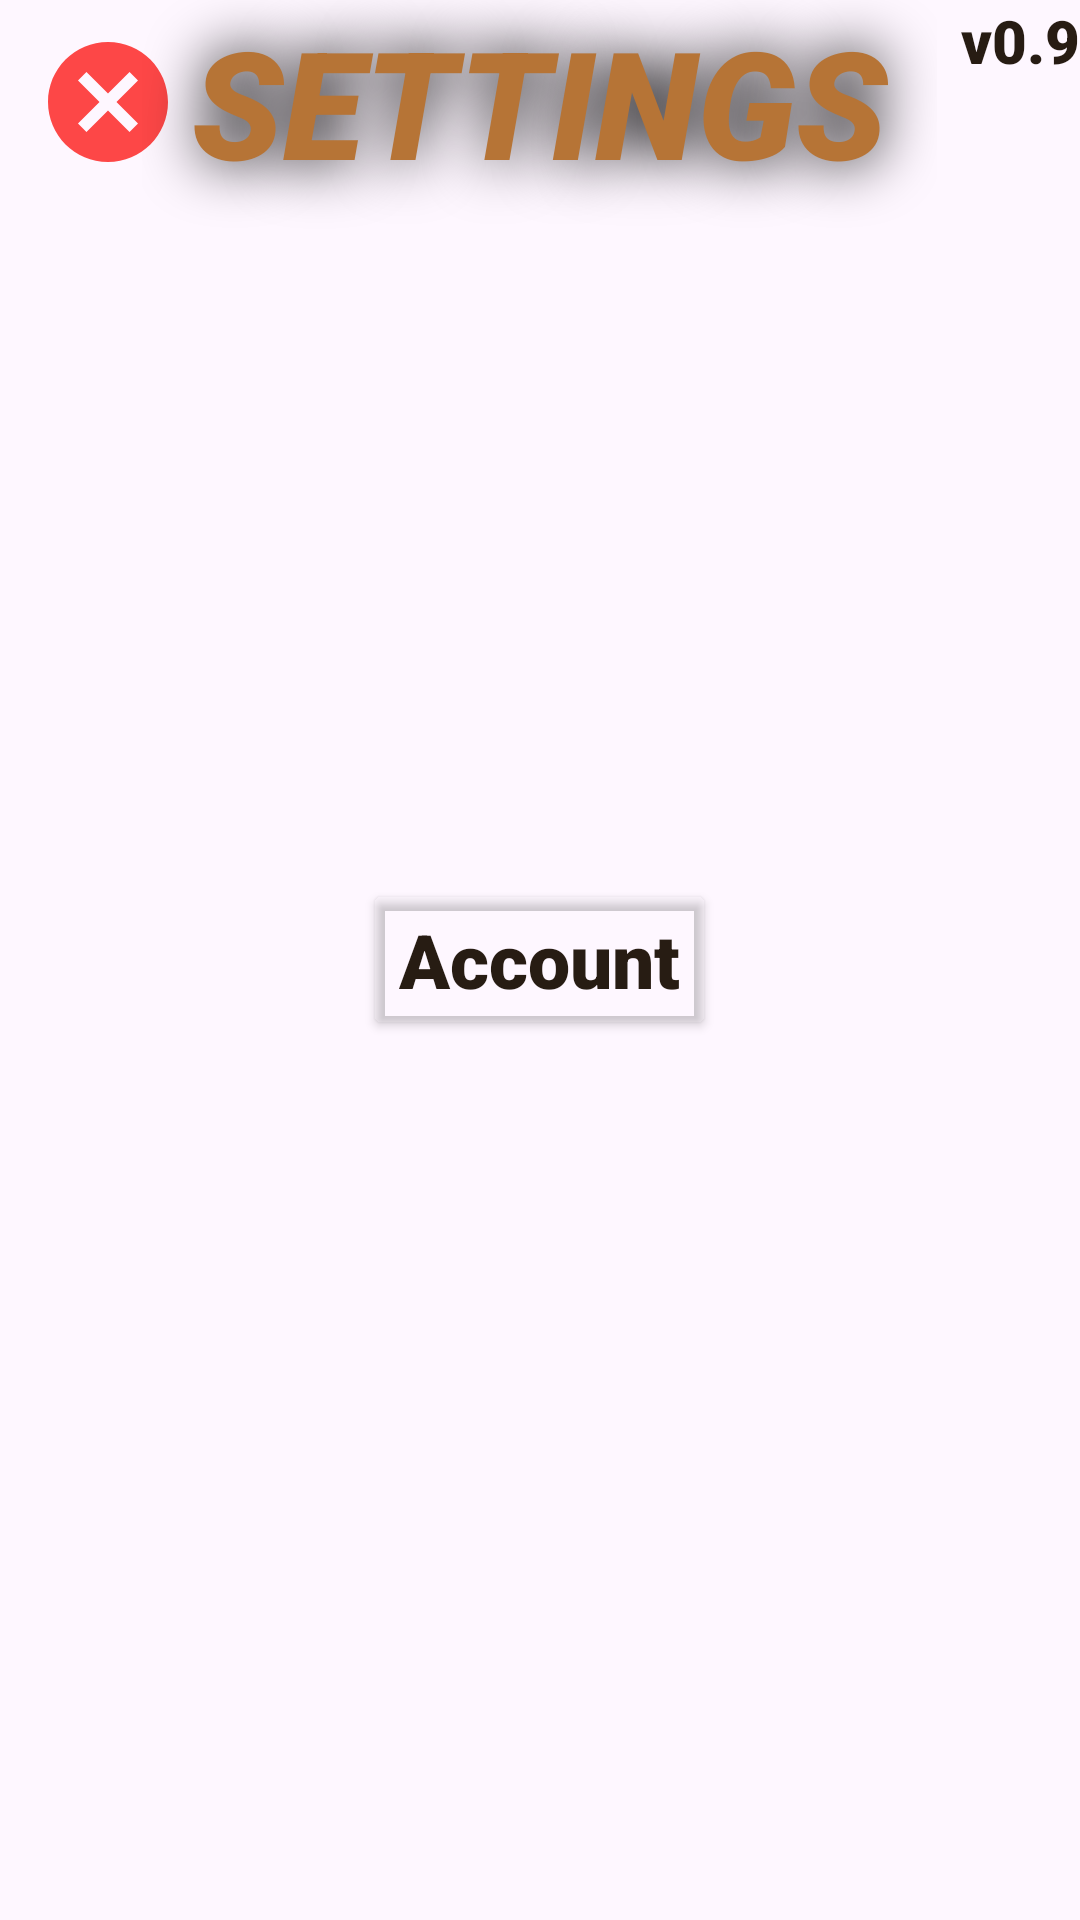

Where icons sit on this 1080px x 1920px app screen, as (x1, y1, x2, y2):
cancel: (48, 42, 168, 162)
